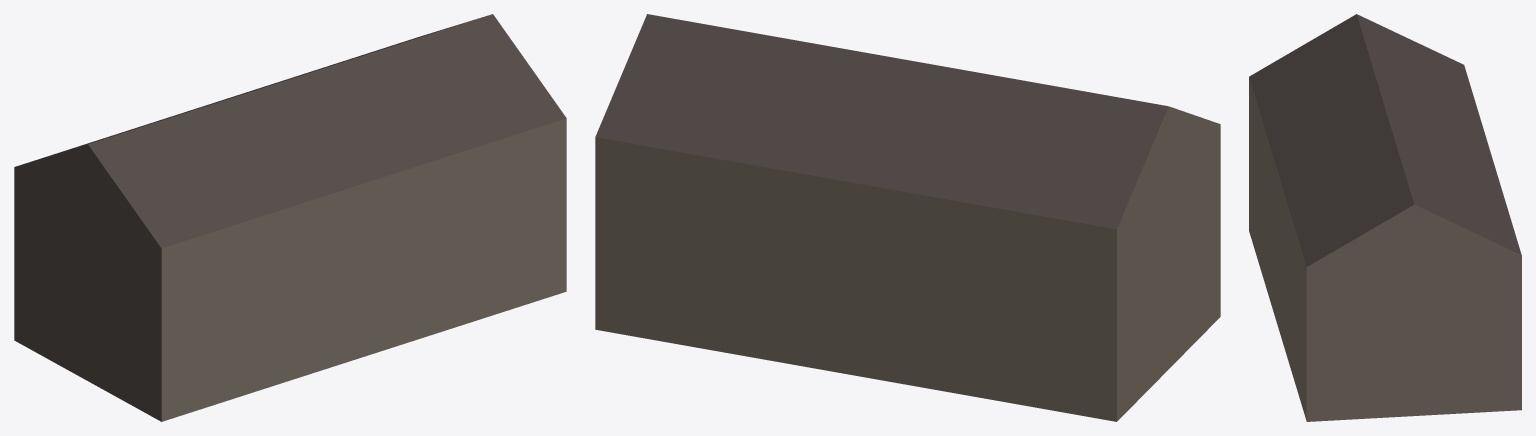
3 views of the same model, side by side, from view 1: azimuth 30°, elevation 25°; view 2: azimuth 150°, elevation 25°; view 3: azimuth 270°, elevation 25° (orthographic). The views are drawn at different scales.
Visible parts, largest first — view 1: HP-w1200785664; view 2: HP-w1200785664; view 3: HP-w1200785664.
Part boxes in pixels (left/top/right/bottom): HP-w1200785664: left=14, top=14, right=566, bottom=421; HP-w1200785664: left=595, top=14, right=1220, bottom=421; HP-w1200785664: left=1249, top=14, right=1521, bottom=421.
Bounding box in the file's own units: 25.23 × 12.3 × 14.37.
